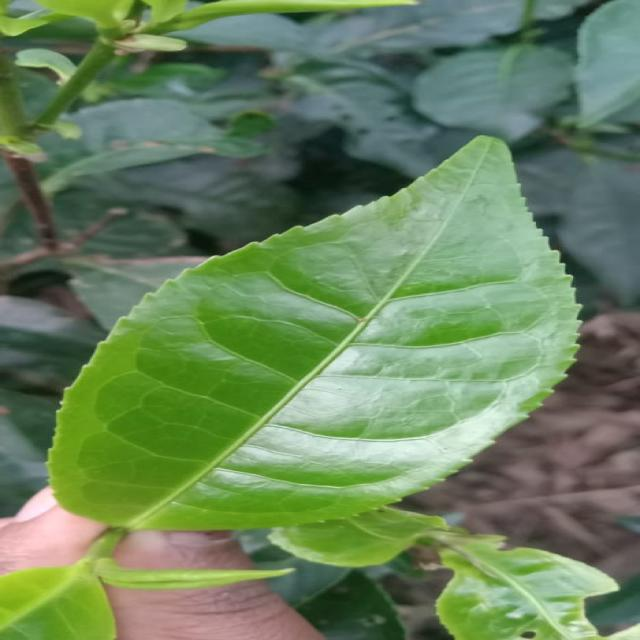Category B(2-4 days): (37, 120, 613, 543)
